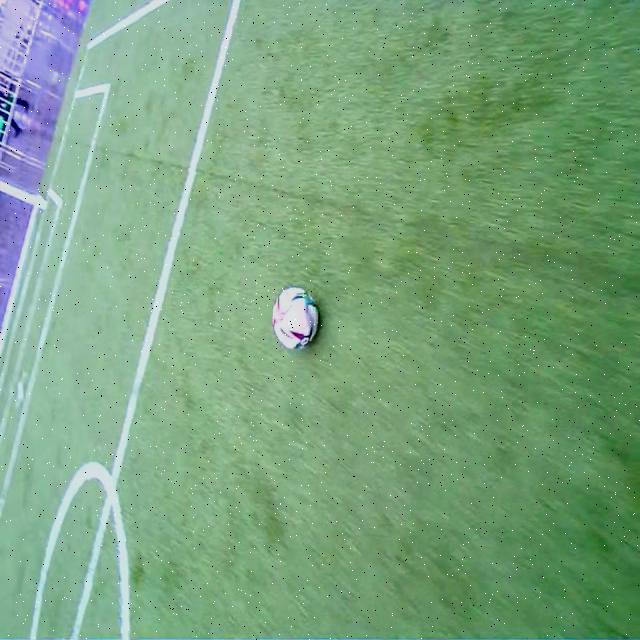ball: (271, 283, 320, 352)
